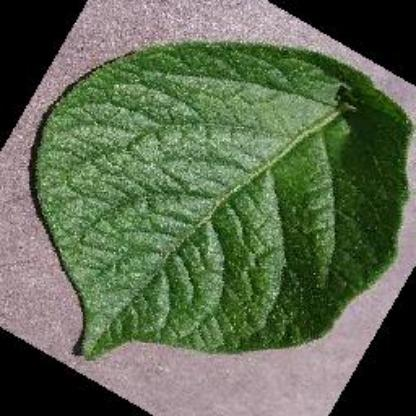Healthy-plant: (25, 26, 415, 377)
